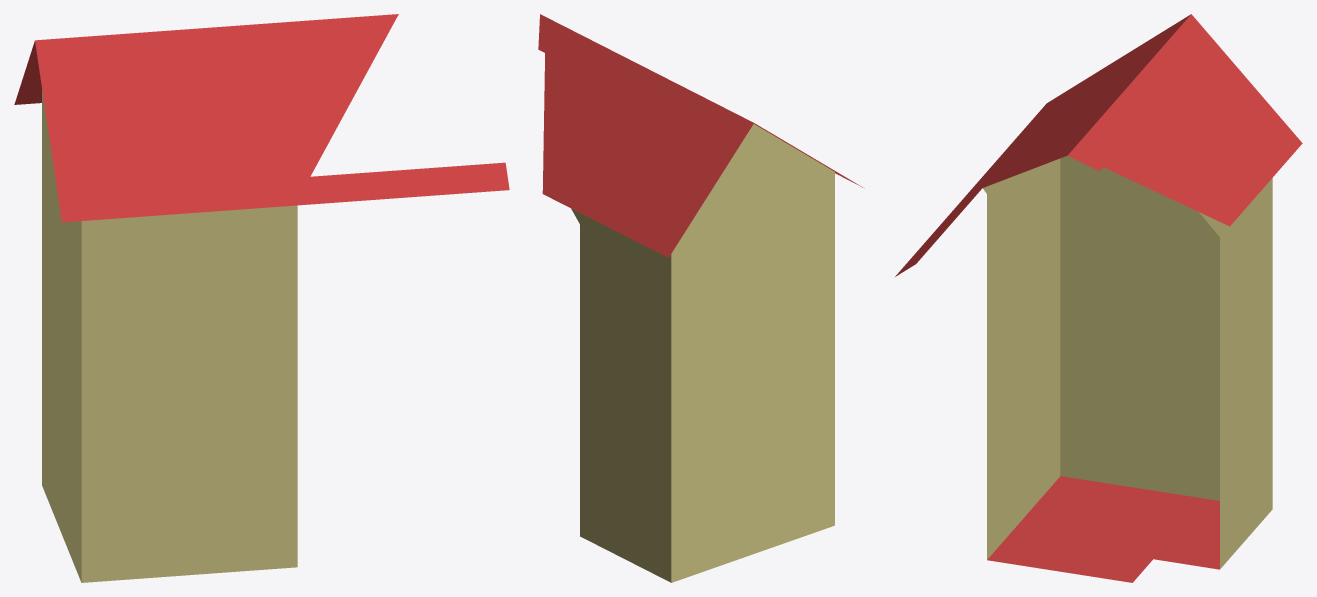
The picture shows the model from 3 angles, left to right: view 1: azimuth 30°, elevation 25°; view 2: azimuth 150°, elevation 25°; view 3: azimuth 270°, elevation 25°; orthographic projection. The views are drawn at different scales.
Bounding box in the file's own units: 9.03 × 8.78 × 11.19.
